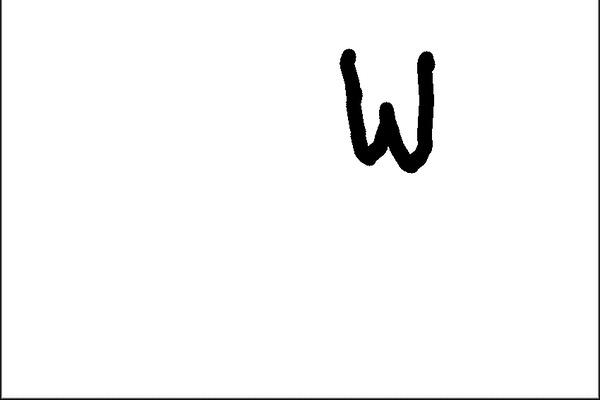w: (317, 37, 469, 190)
